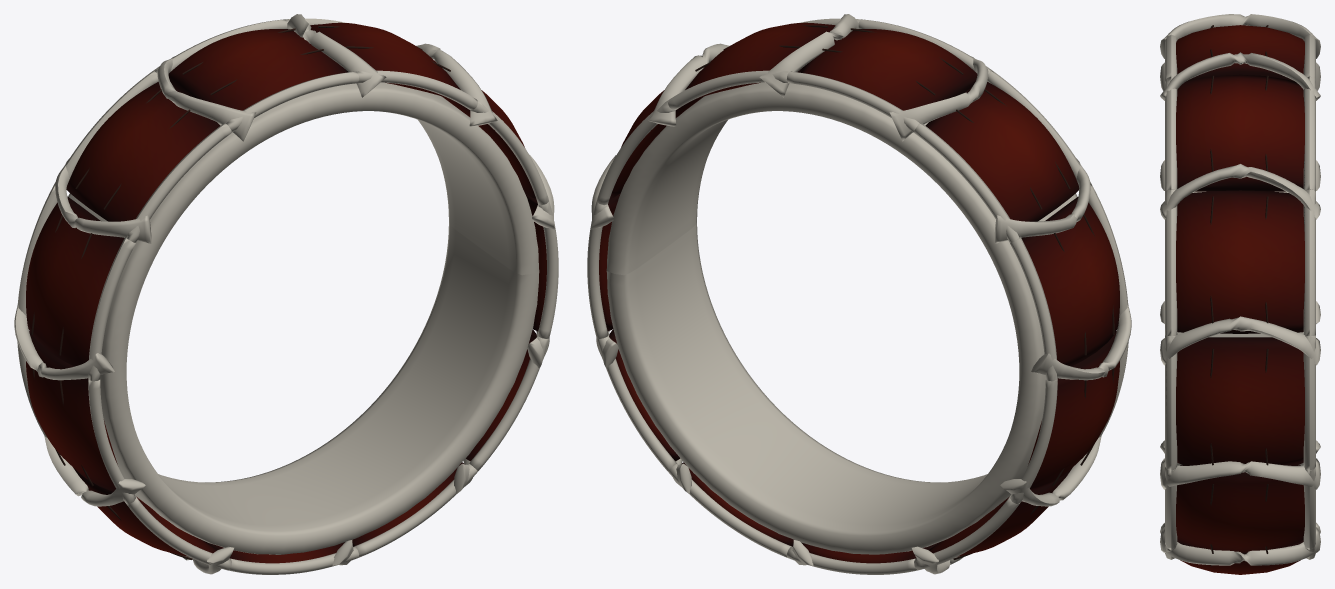
Rendered from chitin_ring.glb.
3 views of the same model, side by side, from view 1: azimuth 30°, elevation 25°; view 2: azimuth 150°, elevation 25°; view 3: azimuth 270°, elevation 25° (orthographic). The views are drawn at different scales.
Visible parts, largest first — view 1: Worn pale titanium band and sculpted plate retainers, Polished reddish brown centipede chitin, Dark chitin plate seams and fine growth lines; view 2: Worn pale titanium band and sculpted plate retainers, Polished reddish brown centipede chitin, Dark chitin plate seams and fine growth lines; view 3: Polished reddish brown centipede chitin, Worn pale titanium band and sculpted plate retainers, Dark chitin plate seams and fine growth lines.
Boxes of the visible parts, left/top/right/bottom form: Worn pale titanium band and sculpted plate retainers: left=14, top=14, right=558, bottom=574; Polished reddish brown centipede chitin: left=26, top=22, right=546, bottom=563; Dark chitin plate seams and fine growth lines: left=31, top=26, right=486, bottom=559; Worn pale titanium band and sculpted plate retainers: left=587, top=14, right=1131, bottom=574; Polished reddish brown centipede chitin: left=599, top=22, right=1119, bottom=563; Dark chitin plate seams and fine growth lines: left=695, top=25, right=1114, bottom=559; Polished reddish brown centipede chitin: left=1176, top=25, right=1304, bottom=574; Worn pale titanium band and sculpted plate retainers: left=1160, top=14, right=1320, bottom=565; Dark chitin plate seams and fine growth lines: left=1210, top=25, right=1268, bottom=566.
Bounding box in the file's own units: 0.0257 × 0.0257 × 0.00739.
